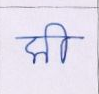i_matra: (46, 22, 73, 64)
